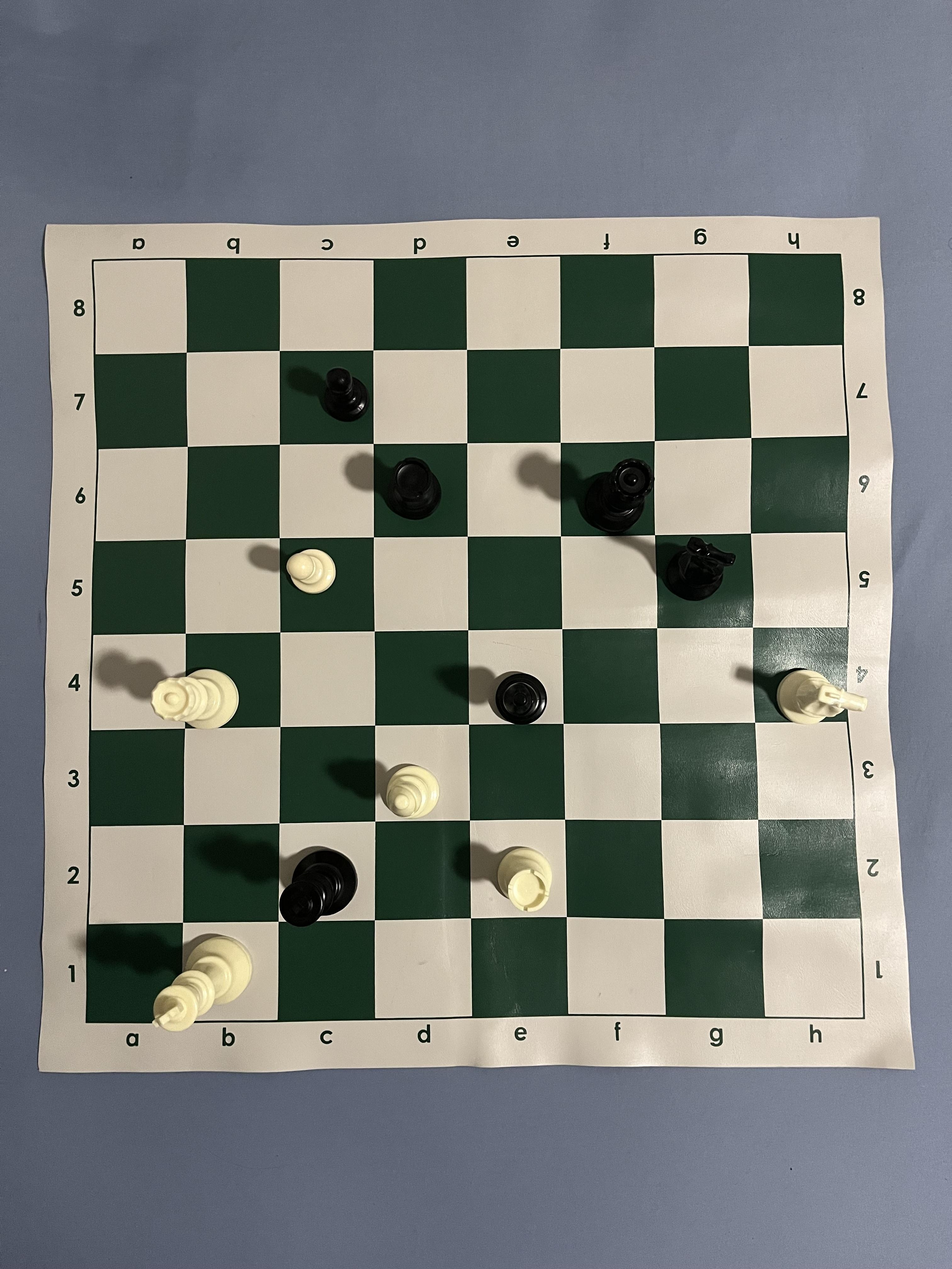black_bishop: (494, 671, 548, 726)
black_king: (278, 847, 358, 928)
black_knight: (665, 536, 737, 601)
black_pawn: (319, 366, 370, 423)
black_queen: (583, 457, 655, 535)
black_rook: (384, 457, 443, 521)
white_bishop: (384, 764, 441, 819)
white_king: (150, 937, 253, 1032)
white_knight: (776, 669, 868, 725)
white_pawn: (286, 548, 337, 594)
white_queen: (150, 667, 239, 729)
white_rook: (496, 846, 553, 913)
